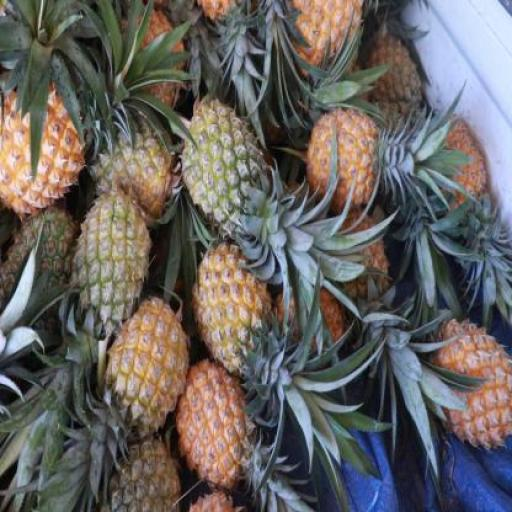------------------------------: (108, 297, 189, 434), (70, 191, 144, 325), (183, 94, 260, 222), (175, 354, 250, 485), (93, 116, 170, 204), (202, 455, 284, 512)
Pineapple - v8 v1: (0, 86, 92, 217), (192, 244, 272, 378), (432, 316, 512, 448), (310, 110, 380, 212)
